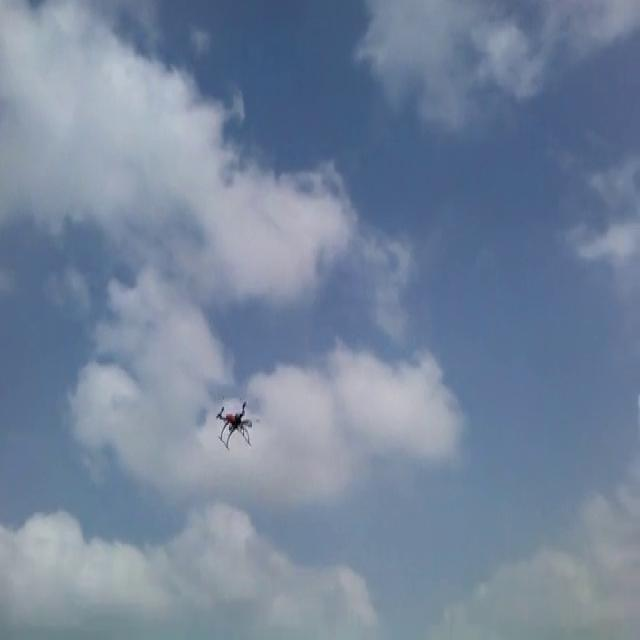drone: (214, 396, 258, 450)
